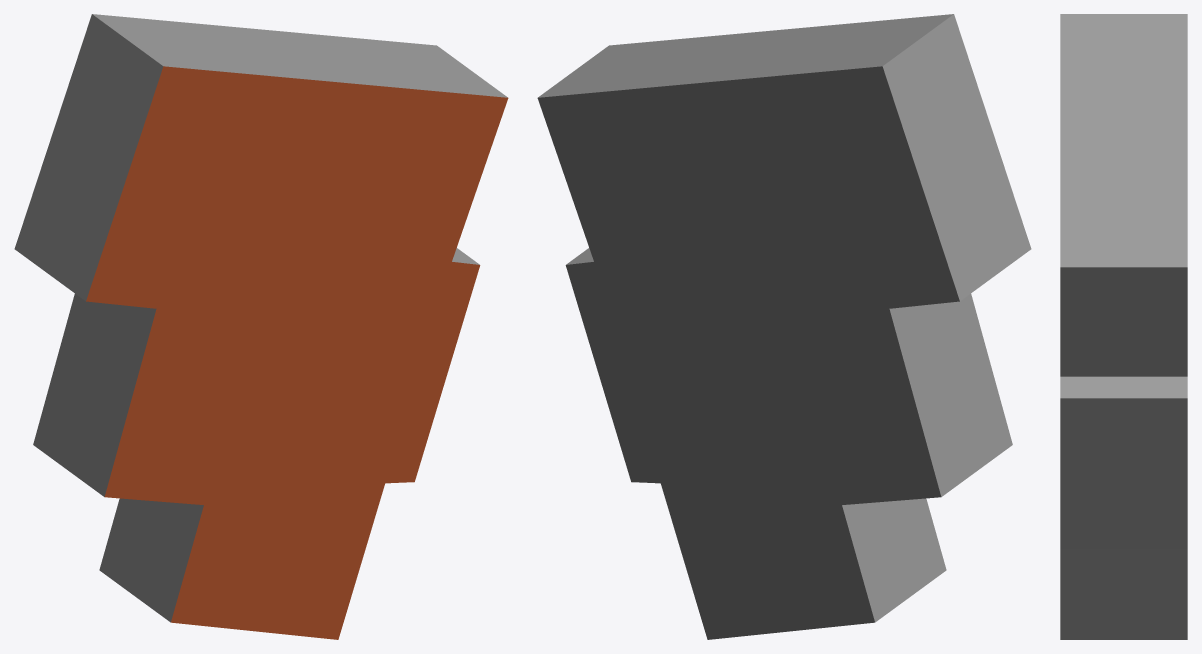
Rendered from construction_1679_assumed_A_Casa_h6m.obj.
3 views of the same model, side by side, from view 1: azimuth 30°, elevation 25°; view 2: azimuth 150°, elevation 25°; view 3: azimuth 270°, elevation 25° (orthographic). The views are drawn at different scales.
Visible parts, largest first — view 1: construction_1679_assumed_A_Casa; view 2: construction_1679_assumed_A_Casa; view 3: construction_1679_assumed_A_Casa.
Boxes of the visible parts, x1,y1,x2,y2 form: construction_1679_assumed_A_Casa: (14,14,508,639); construction_1679_assumed_A_Casa: (537,14,1031,639); construction_1679_assumed_A_Casa: (1060,14,1187,639).
Size of the model in its own units: 20.48 by 28.54 by 6.
